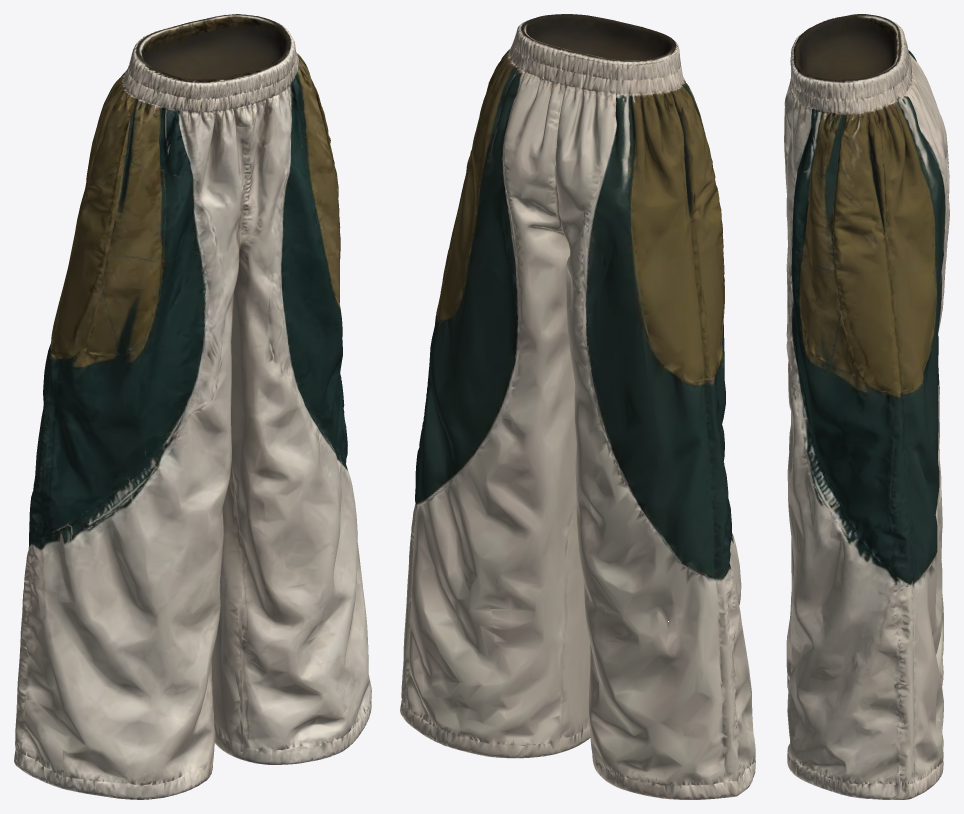
The model's file is suit-detour-pants.glb.
3 views of the same model, side by side, from view 1: azimuth 30°, elevation 25°; view 2: azimuth 150°, elevation 25°; view 3: azimuth 270°, elevation 25° (orthographic). The views are drawn at different scales.
Visible parts, largest first — view 1: tripo_node_4f69a13b-f5ae-467f-8b91-324733adcda3; view 2: tripo_node_4f69a13b-f5ae-467f-8b91-324733adcda3; view 3: tripo_node_4f69a13b-f5ae-467f-8b91-324733adcda3.
Part boxes in pixels (bbox=[...]): tripo_node_4f69a13b-f5ae-467f-8b91-324733adcda3: bbox=[14, 14, 371, 799]; tripo_node_4f69a13b-f5ae-467f-8b91-324733adcda3: bbox=[400, 14, 755, 799]; tripo_node_4f69a13b-f5ae-467f-8b91-324733adcda3: bbox=[784, 14, 949, 799].
Bounding box in the file's own units: 0.5169 × 1.04 × 0.2279.
Materials: 1 (1 with a texture image).
